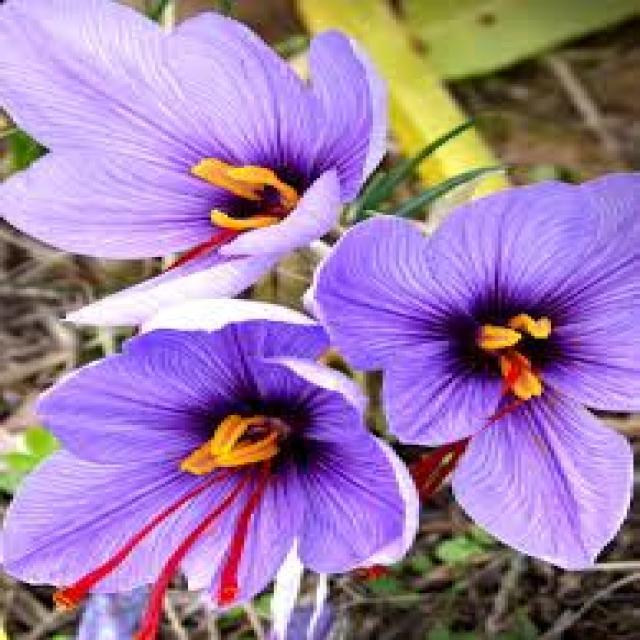Flower: (0, 312, 426, 638), (300, 167, 640, 568), (0, 0, 393, 316)
stigma: (52, 474, 224, 609), (139, 470, 245, 636), (212, 486, 266, 607)
